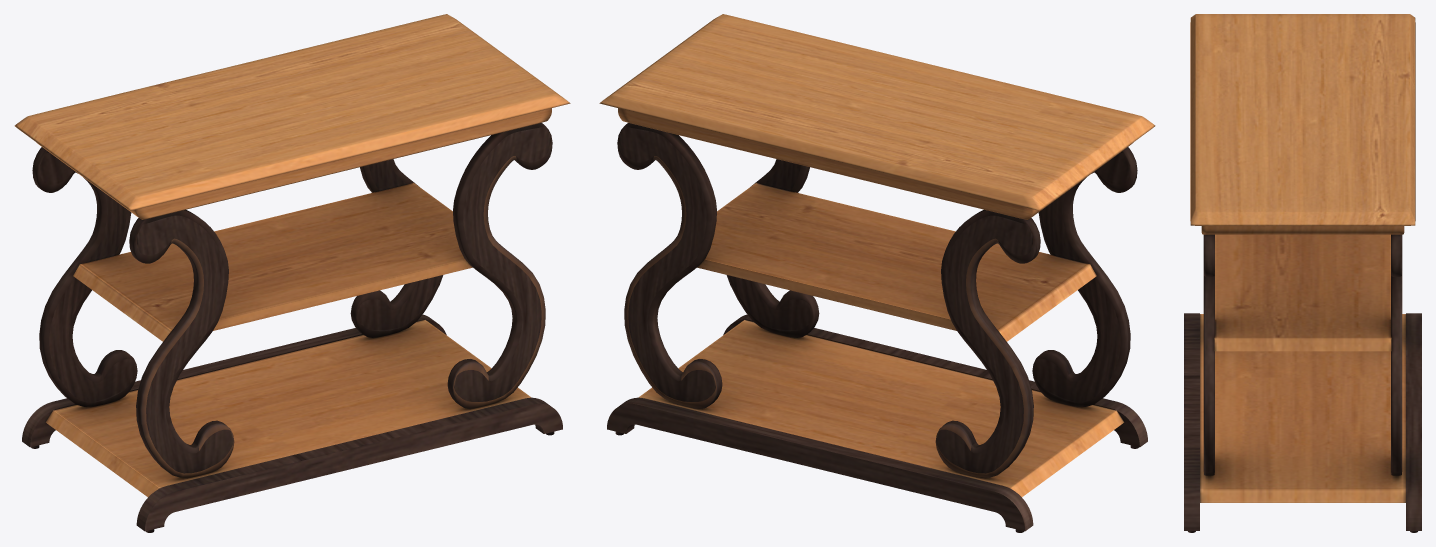
File: janousek_console_table.fbx
The picture shows the model from 3 angles, left to right: view 1: azimuth 30°, elevation 25°; view 2: azimuth 150°, elevation 25°; view 3: azimuth 270°, elevation 25°; orthographic projection. The views are drawn at different scales.
Parts seen in each view (by area): view 1: Janousek Console Table; view 2: Janousek Console Table; view 3: Janousek Console Table.
Boxes of the visible parts, <box> form: Janousek Console Table: <box>14,14,570,532</box>; Janousek Console Table: <box>599,14,1155,532</box>; Janousek Console Table: <box>1184,14,1421,532</box>.
Bounding box in the file's own units: 1.23 × 0.8939 × 0.5943.
